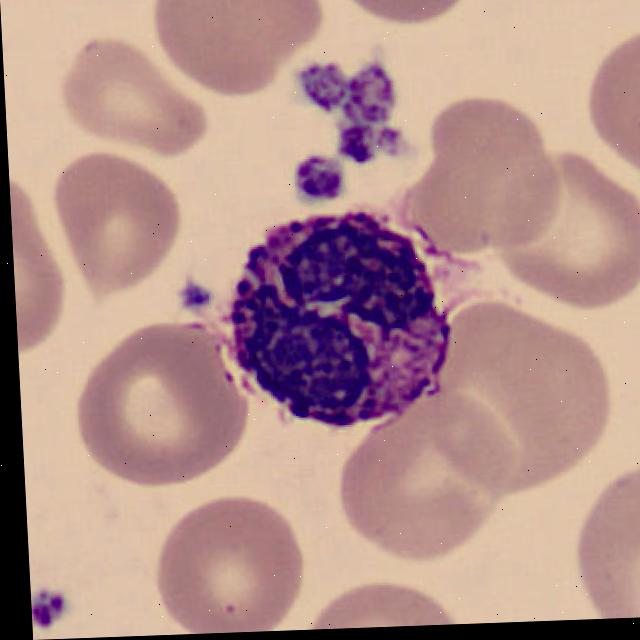basophil: (217, 211, 455, 433)
platelets: (345, 61, 401, 122), (288, 150, 343, 210), (30, 583, 81, 633), (301, 59, 346, 112), (366, 123, 411, 170), (175, 271, 213, 316), (334, 122, 372, 165)
rbc: (421, 291, 620, 495), (49, 321, 241, 495), (327, 382, 514, 555), (391, 82, 566, 253), (138, 489, 315, 636), (493, 148, 640, 297), (49, 152, 190, 298), (56, 34, 203, 145), (140, 0, 330, 81), (564, 449, 640, 620), (9, 166, 68, 355), (585, 16, 640, 170), (289, 579, 454, 630), (340, 0, 482, 29)
